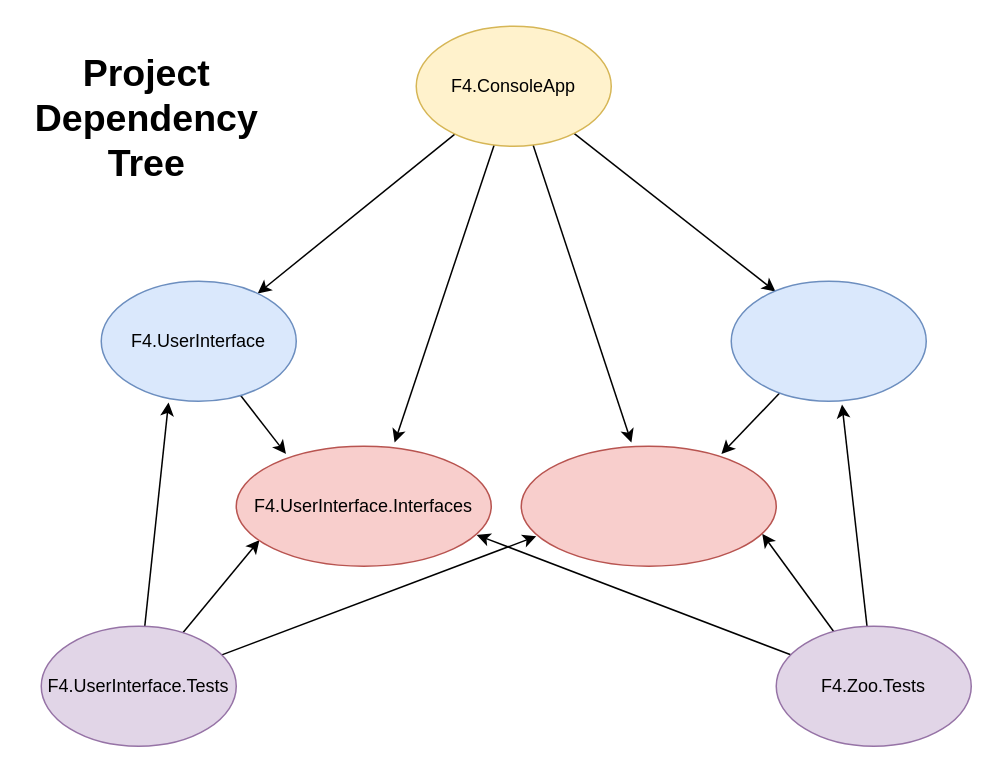
Some shapes in this 998 by 773 pixel diagram are drawn without their labels. Here are the shapes that lost their labels. From the top down, the centre of each, then its label:
At pixel 828 340: "F4.Zoo".
At pixel 648 505: "F4.Zoo.Interfaces".
